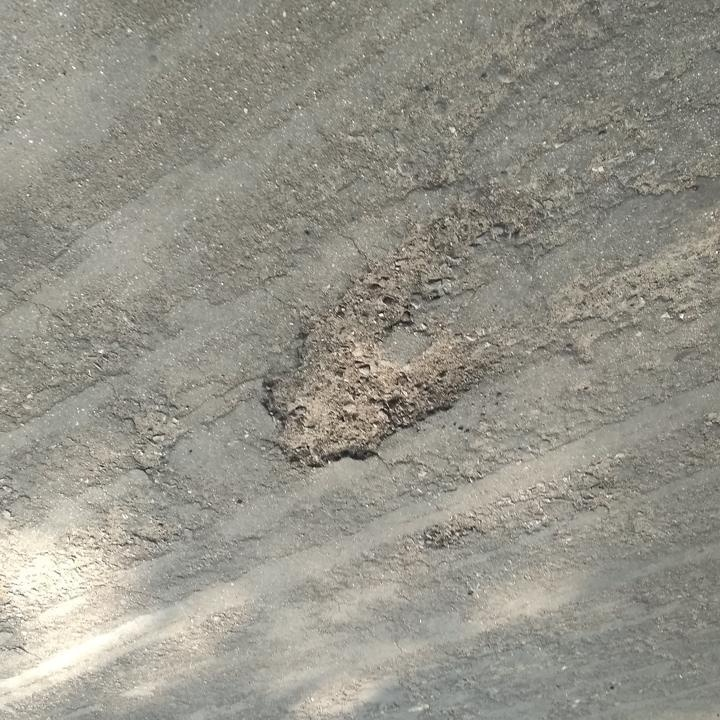pothole: (254, 230, 498, 475)
